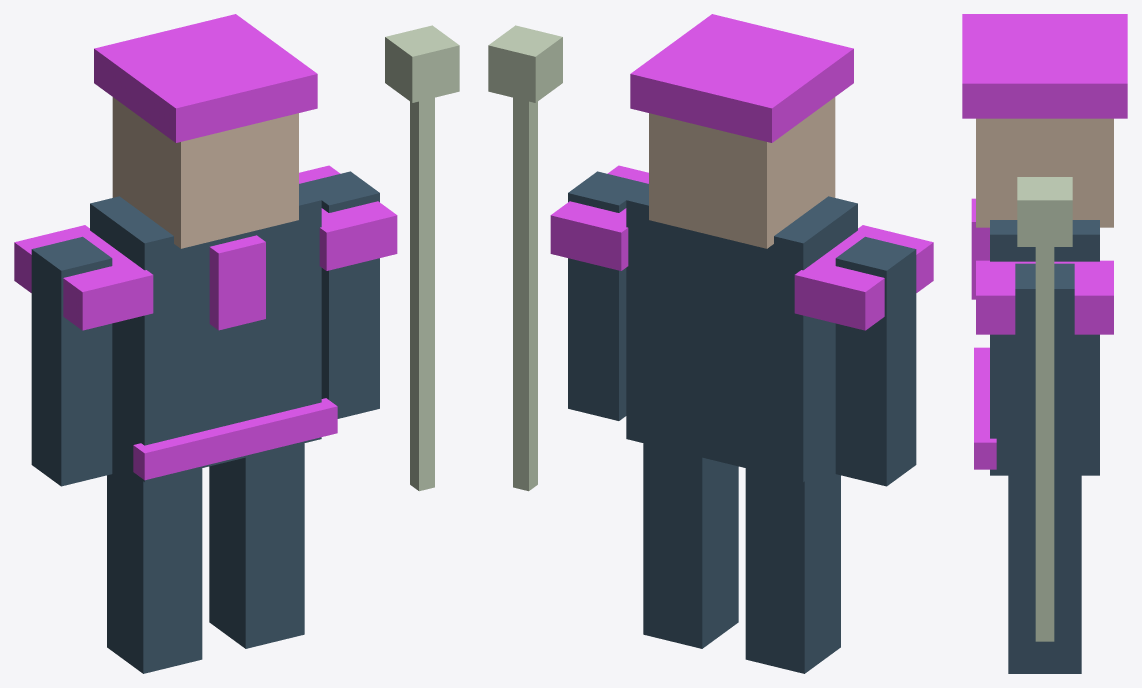
Rendered from 18_bex_cragwarden_diver_from_agri_domes.glb.
3 views of the same model, side by side, from view 1: azimuth 30°, elevation 25°; view 2: azimuth 150°, elevation 25°; view 3: azimuth 270°, elevation 25° (orthographic).
Visible parts, largest first — view 1: Bex Cragwarden, Diver from Agri-Domes; view 2: Bex Cragwarden, Diver from Agri-Domes; view 3: Bex Cragwarden, Diver from Agri-Domes.
Boxes of the visible parts, box(x1,y1,x2,y2) form: Bex Cragwarden, Diver from Agri-Domes: box(14, 14, 459, 673); Bex Cragwarden, Diver from Agri-Domes: box(488, 14, 933, 673); Bex Cragwarden, Diver from Agri-Domes: box(962, 14, 1127, 673).
Bounding box in the file's own units: 1.06 × 1.47 × 0.3763.
